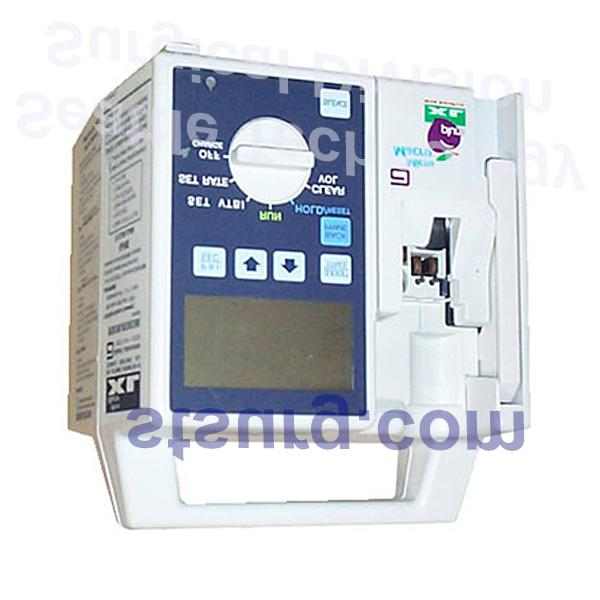plumxl1: (70, 39, 558, 530)
